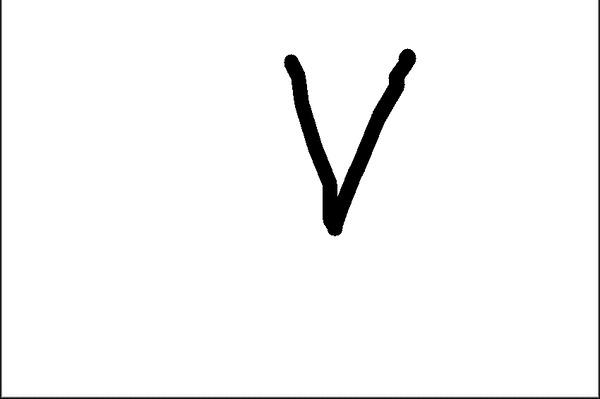V: (277, 39, 421, 243)
